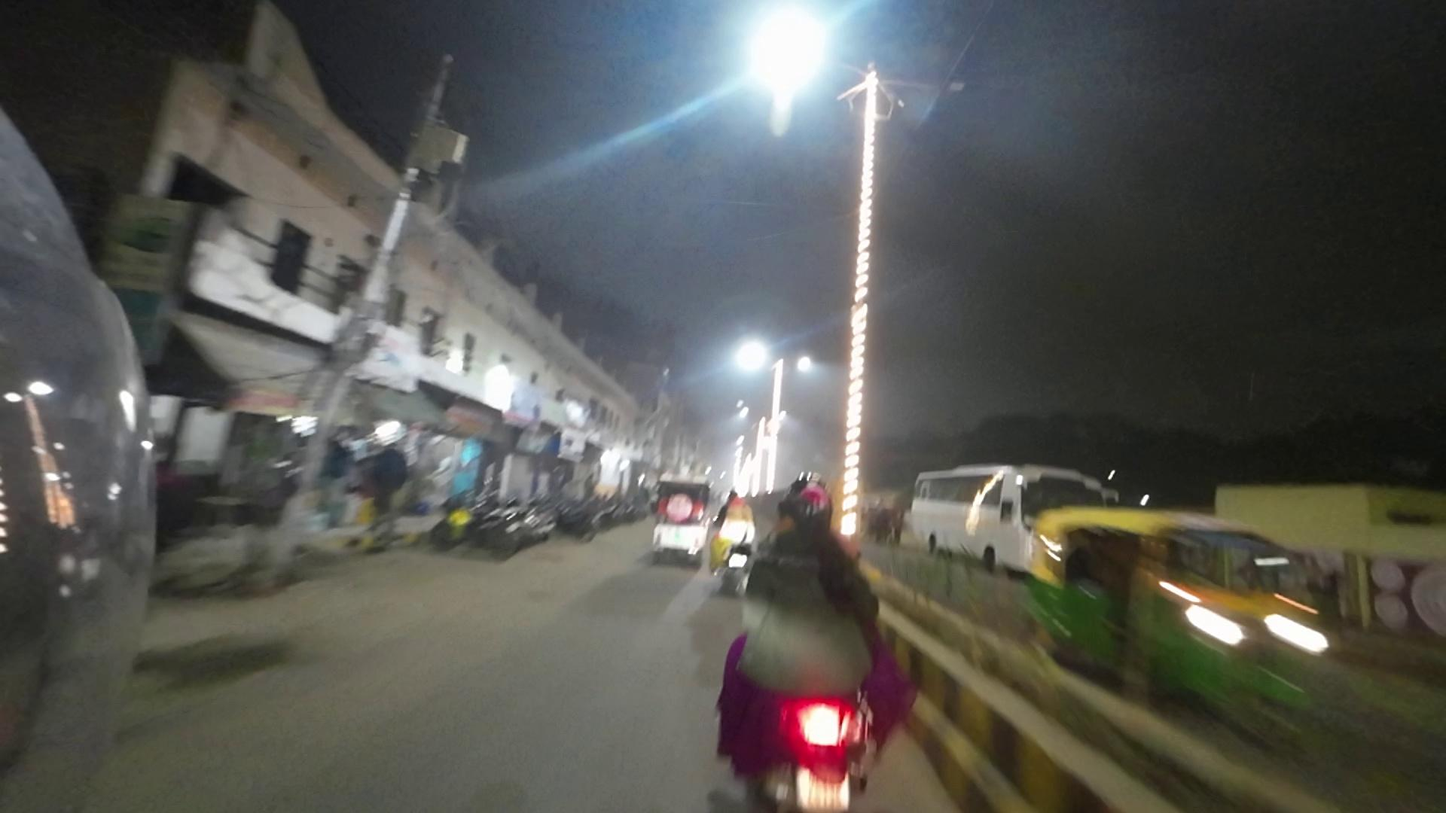streetlight: (890, 73, 970, 100)
